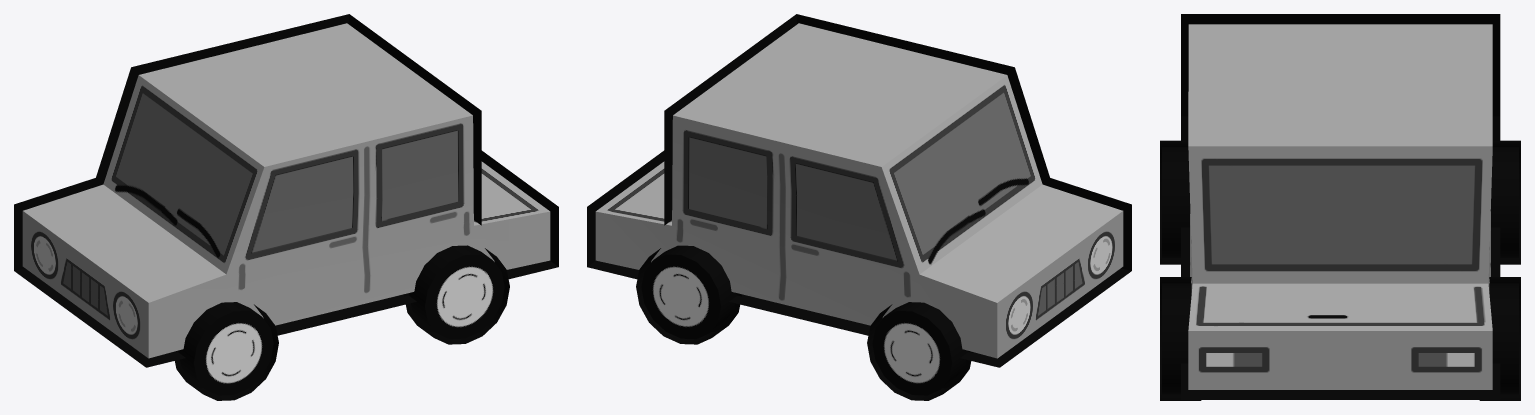
The model's file is coche (1).fbx.
The picture shows the model from 3 angles, left to right: view 1: azimuth 30°, elevation 25°; view 2: azimuth 150°, elevation 25°; view 3: azimuth 270°, elevation 25°; orthographic projection. The views are drawn at different scales.
Parts seen in each view (by area): view 1: Cube, Cylinder.003; view 2: Cube, Cylinder.003; view 3: Cube, Cylinder.003.
Boxes of the visible parts, box(x1,y1,x2,y2) form: Cube: box(14, 14, 558, 367); Cylinder.003: box(173, 245, 509, 400); Cube: box(587, 14, 1131, 367); Cylinder.003: box(636, 245, 972, 400); Cube: box(1181, 14, 1500, 399); Cylinder.003: box(1160, 140, 1520, 400).
Size of the model in its own units: 44.14 by 22.59 by 27.65.
